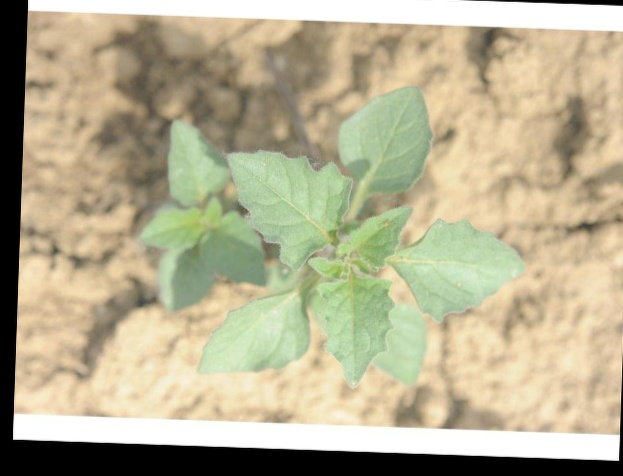nightshade: (140, 82, 524, 389)
